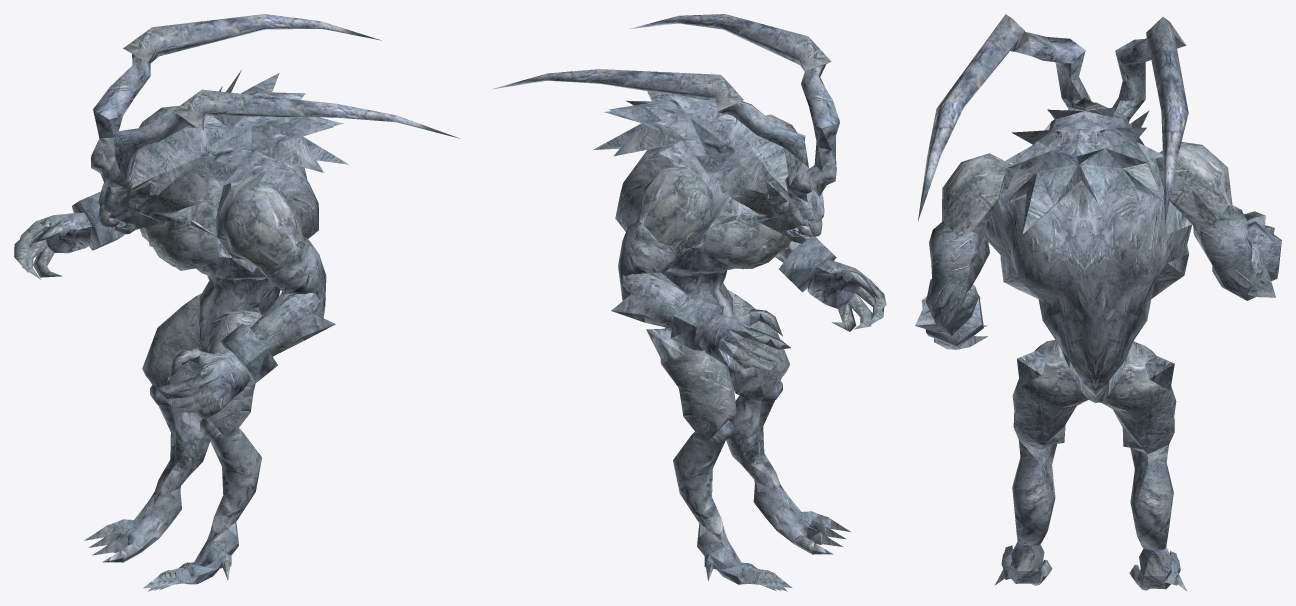
Rendered from statue_02.DAE.
The picture shows the model from 3 angles, left to right: view 1: azimuth 30°, elevation 25°; view 2: azimuth 150°, elevation 25°; view 3: azimuth 270°, elevation 25°; orthographic projection. The views are drawn at different scales.
Parts seen in each view (by area): view 1: Object02; view 2: Object02; view 3: Object02.
Boxes of the visible parts, x1,y1,x2,y2 form: Object02: [14, 14, 459, 591]; Object02: [492, 14, 886, 591]; Object02: [915, 14, 1281, 591].
Bounding box in the file's own units: 2.4 × 2.02 × 3.57.
2 materials, 2 textured.
